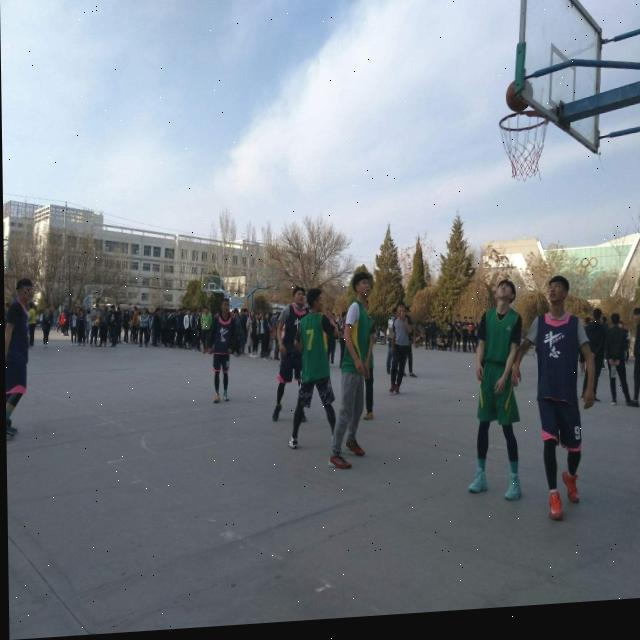basketball: (505, 77, 534, 113)
hoop: (499, 109, 547, 181)
